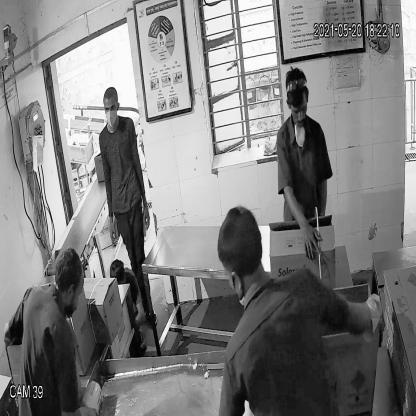no_goggles: (288, 104, 310, 118), (103, 100, 120, 116)
